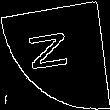N_E: (29, 32, 81, 78)
